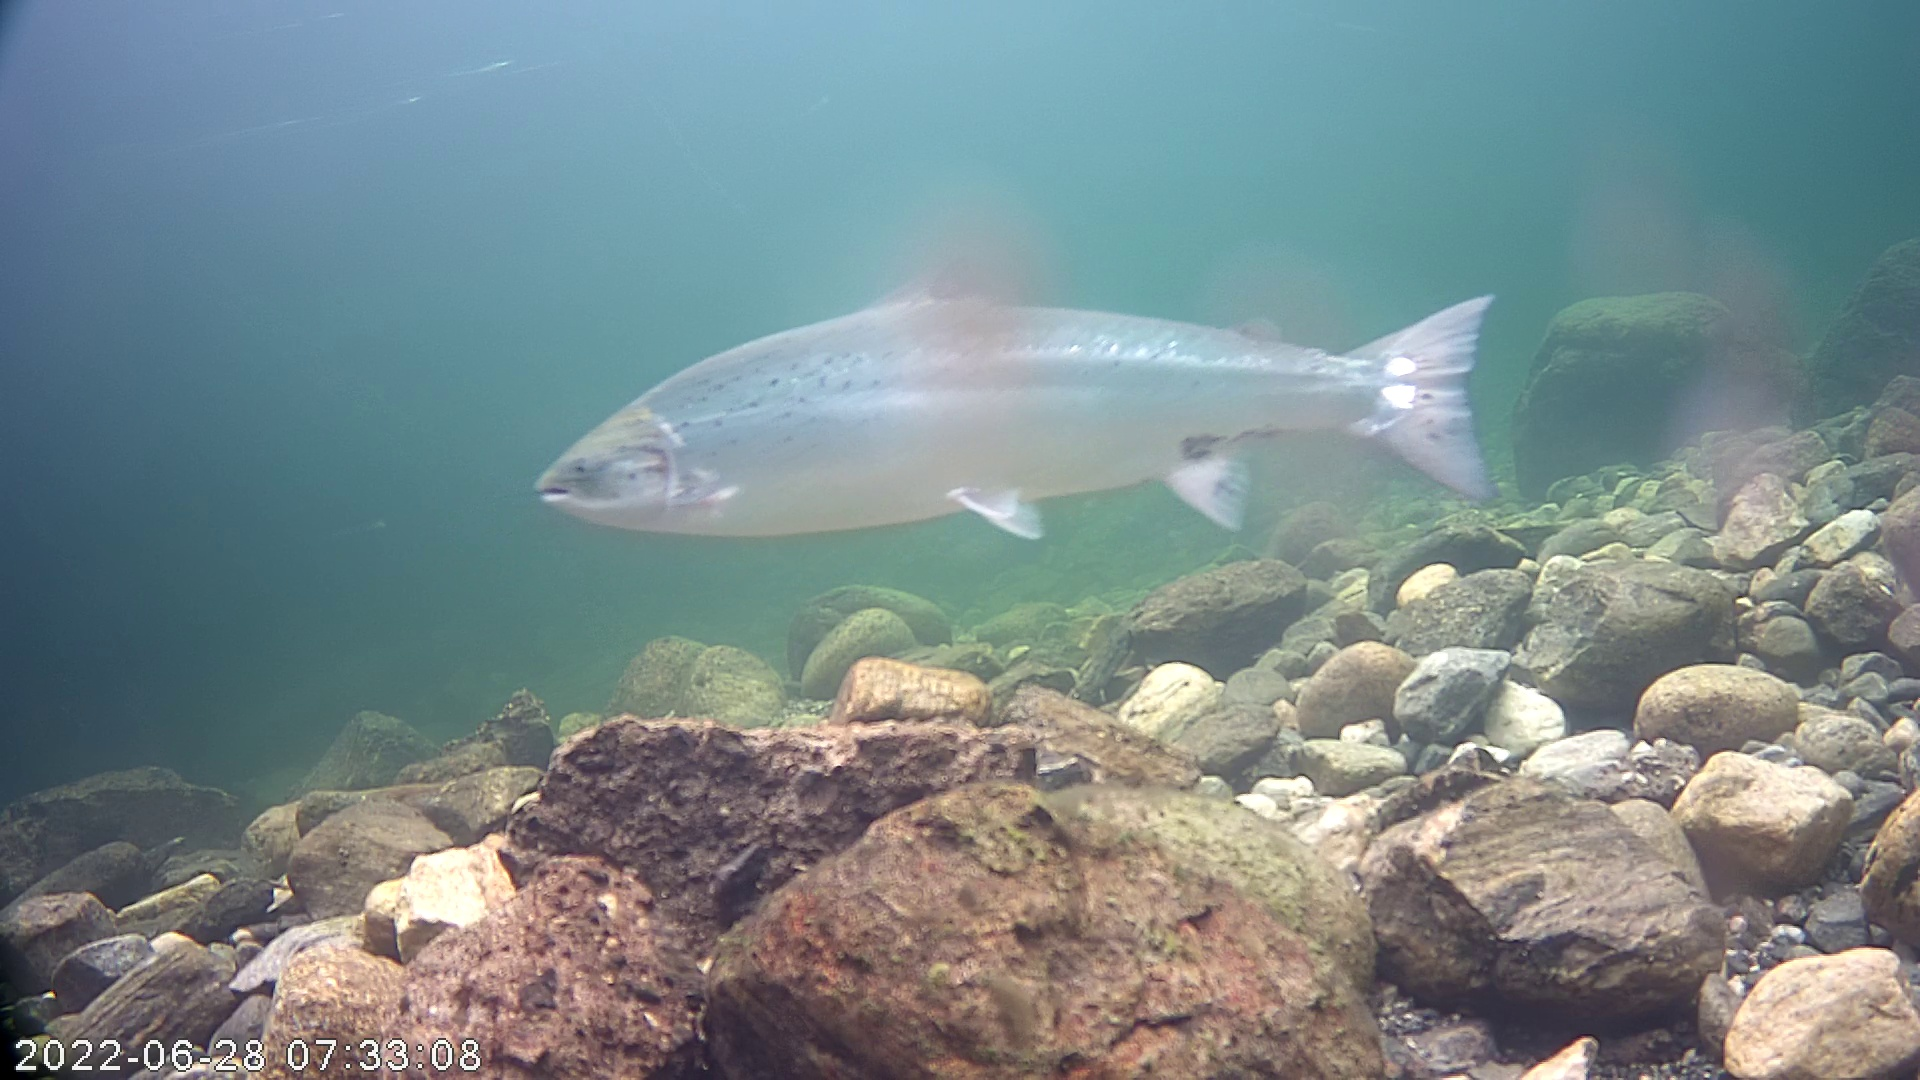salmon: (520, 146, 1534, 613)
